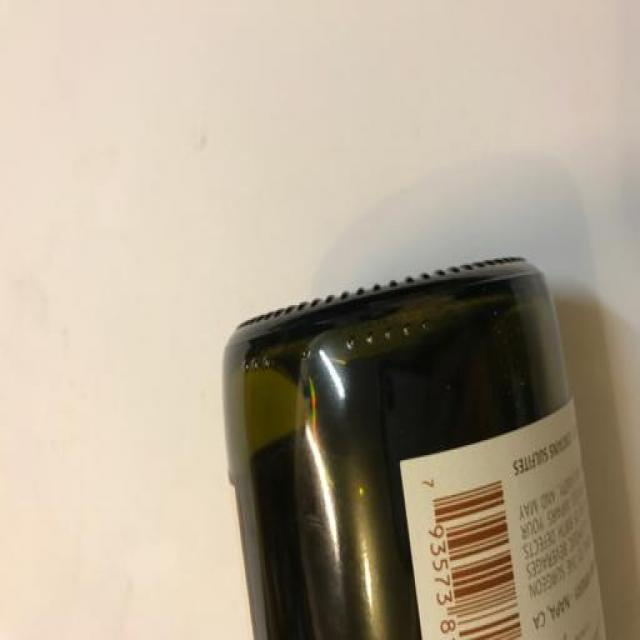glass: (180, 243, 625, 640)
